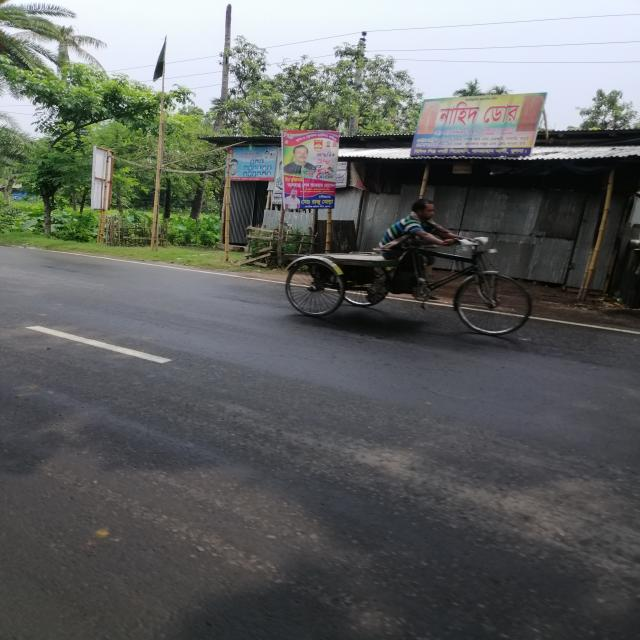Van: (281, 240, 550, 345)
